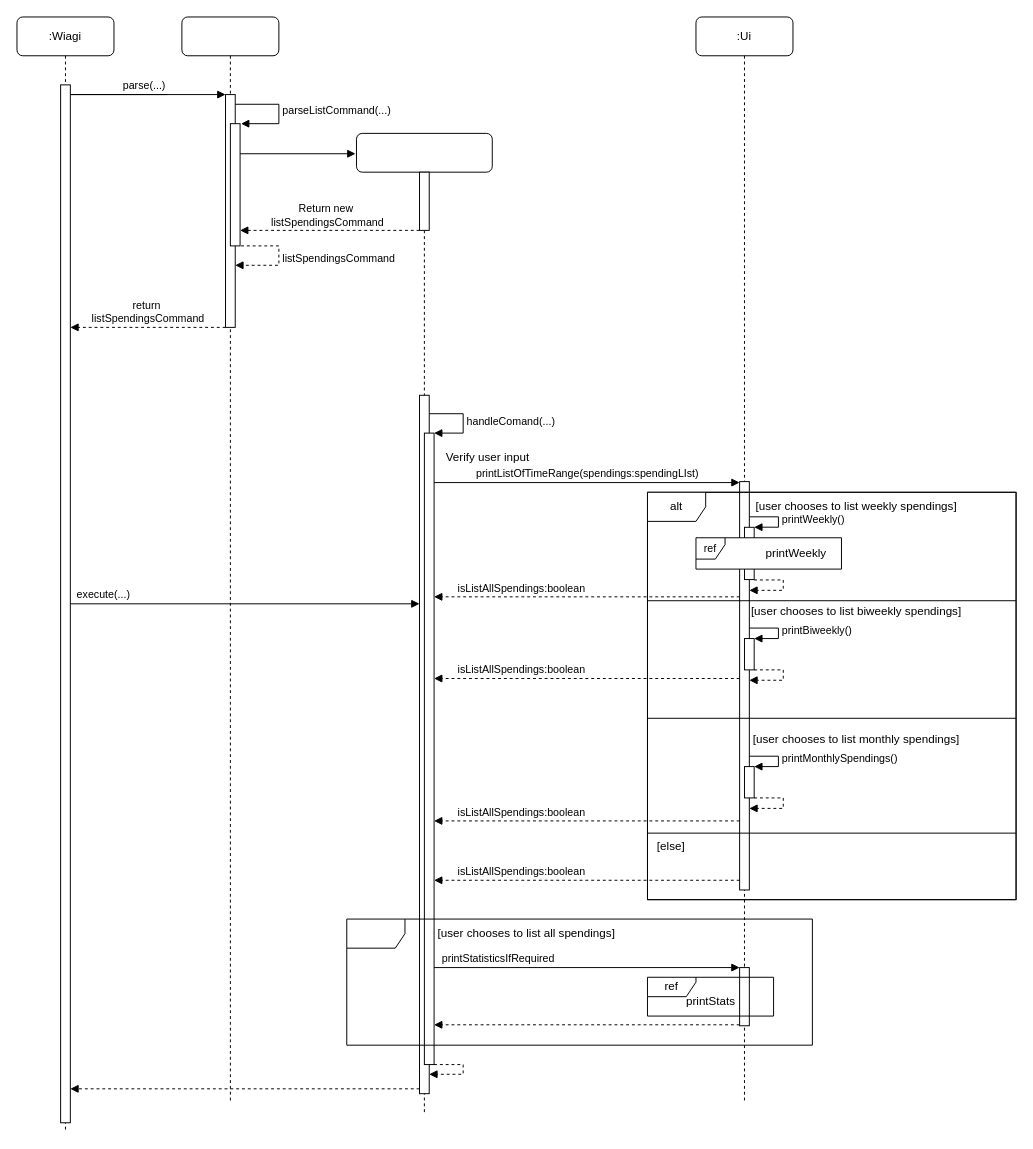
This 1033x1149 diagram has some shape labels left out. The shapes that lost their labels are listed below. From the top down, each one's box as (x1, y1, x2, y2) in pixels, then its label:
(181, 16, 279, 1103): <<class>> :Parser
(356, 132, 492, 1113): :listSpendingsCommand
(346, 918, 812, 1045): opt
